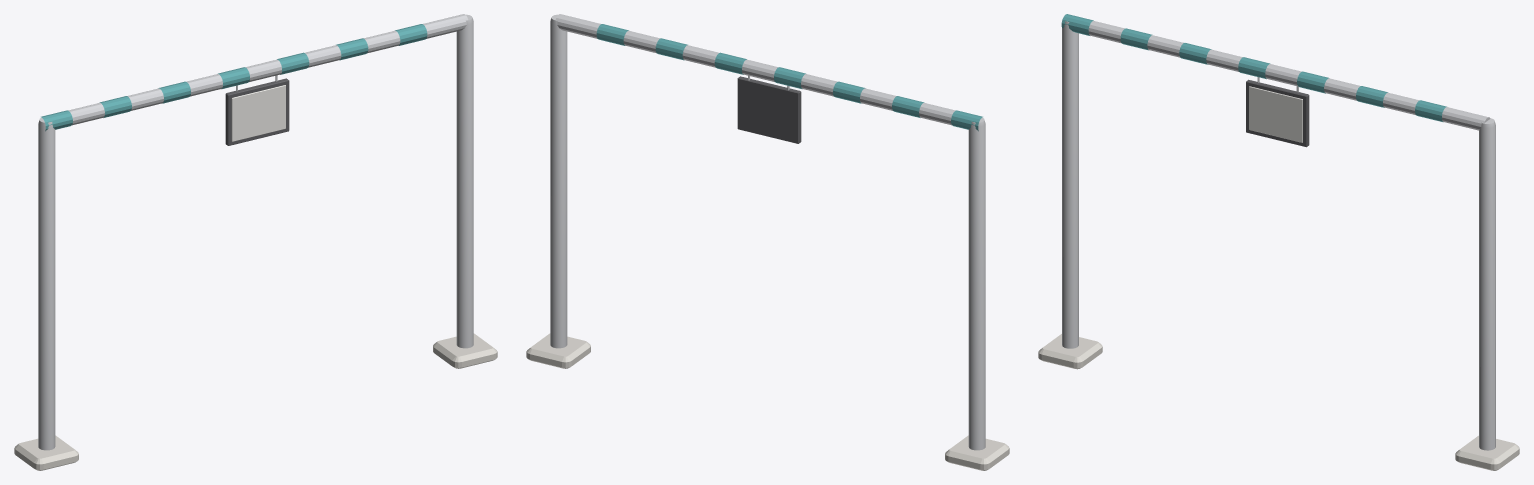
File: fast-food-and-drive-thru-height-restriction-bar-1b7733ee__16200.glb
3 renders of one model, left to right at view 1: azimuth 30°, elevation 25°; view 2: azimuth 150°, elevation 25°; view 3: azimuth 330°, elevation 25°, orthographic.
Visible parts, largest first — view 1: height-restriction-bar; view 2: height-restriction-bar; view 3: height-restriction-bar.
Part boxes in pixels (<box>): height-restriction-bar: <box>14,14,497,470</box>; height-restriction-bar: <box>526,14,1009,470</box>; height-restriction-bar: <box>1038,14,1519,470</box>.
Bounding box in the file's own units: 3.76 × 2.66 × 0.3599.
